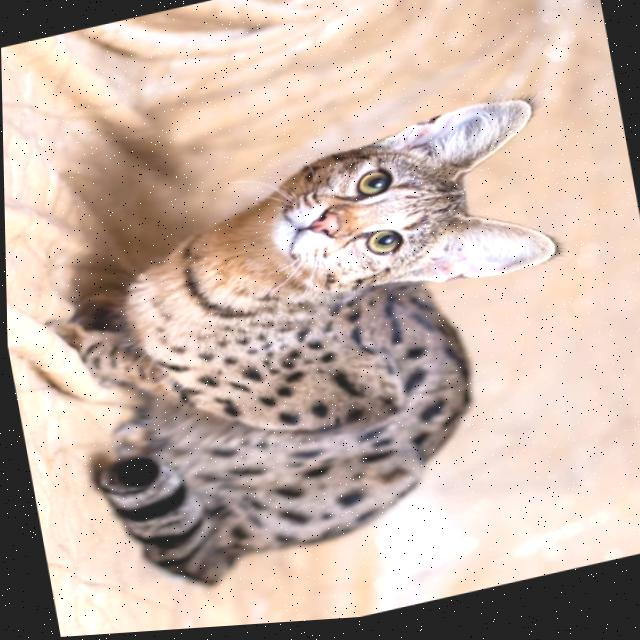Savannah: (18, 89, 618, 620)
